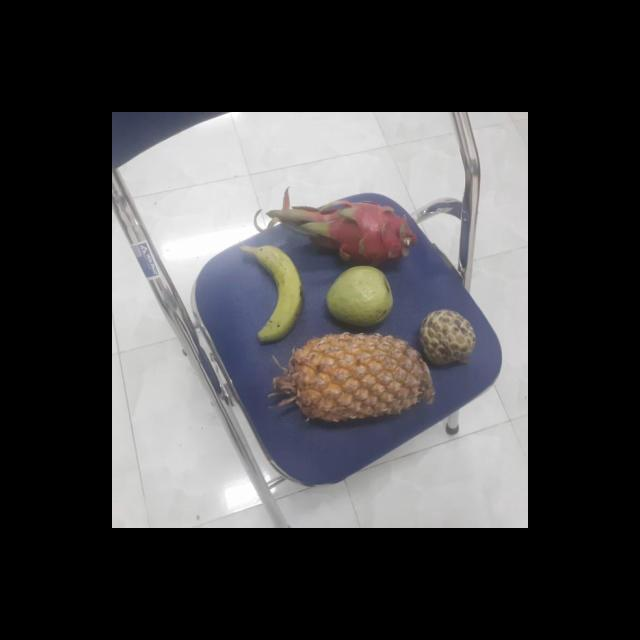Sakya fruit: (414, 309, 476, 366)
banana: (246, 243, 304, 339)
guava: (323, 266, 396, 328)
pineapple: (283, 334, 431, 421)
pitaya: (306, 199, 410, 269)
